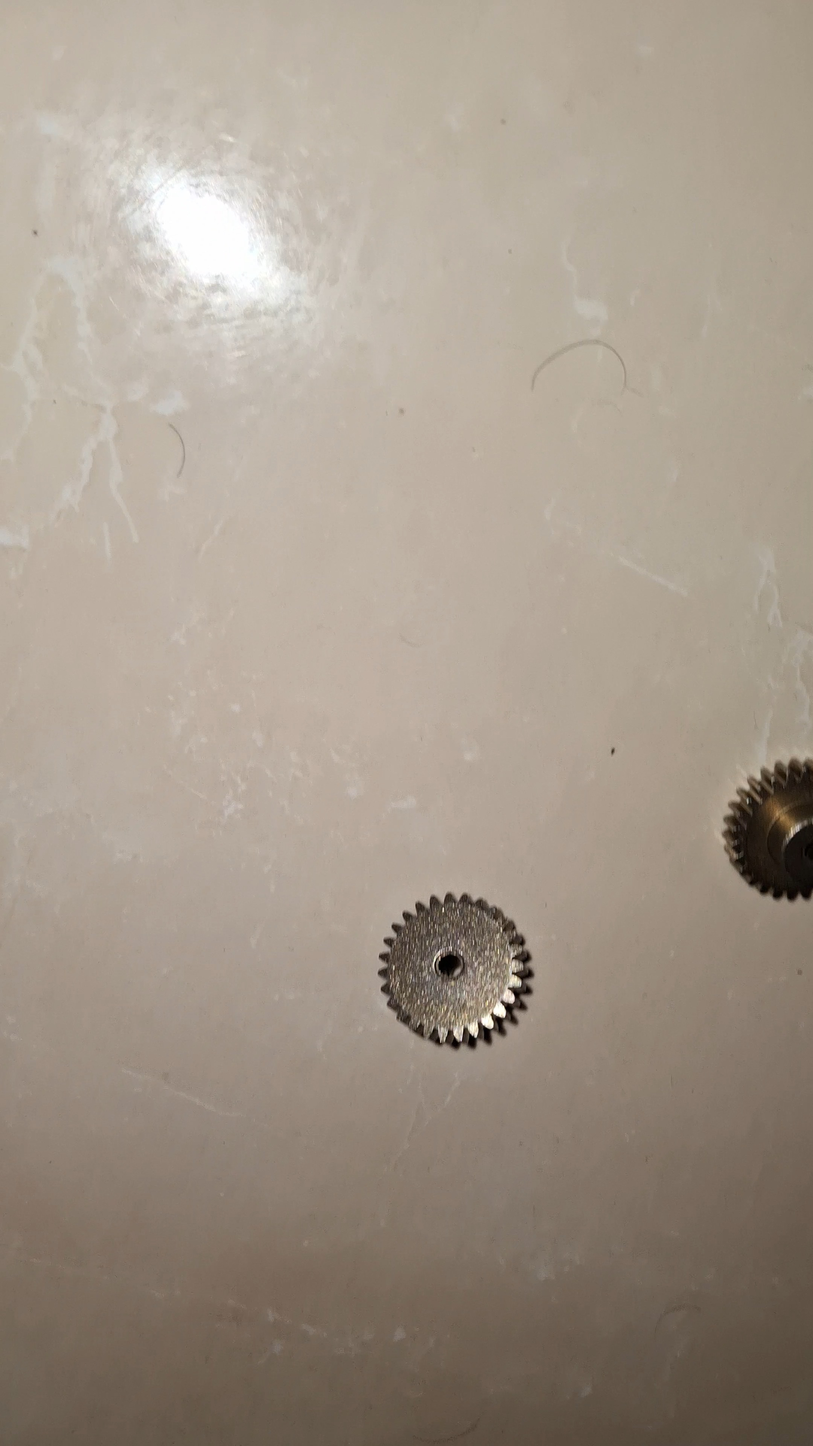spur gear: (379, 893, 529, 1043), (723, 759, 813, 898)
